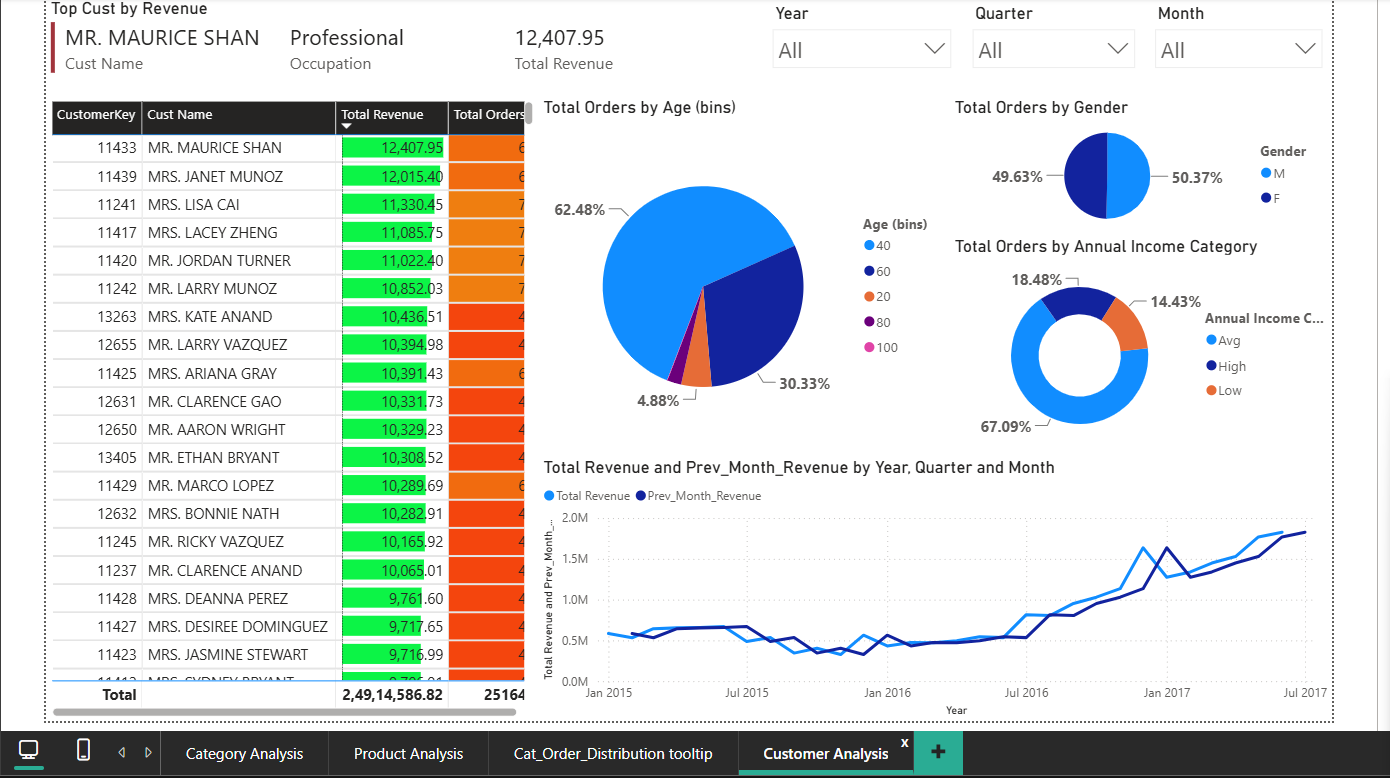

The page's visual inventory and layout, read from the dashboard file:
{"tool":"powerbi","page":{"name":"Customer Analysis","canvas":[1280,720],"ordinal":3},"visuals":[{"type":"tableEx","fields":{"Values":["Customers.CustomerKey","Customers.Cust Name","Sales.Total Revenue","Sales.Total Orders"]},"box":[0,98.3,490,621.7],"z":0},{"type":"pieChart","fields":{"Category":["Customers.Gender"],"Y":["Sales.Total Orders"]},"box":[900,98.3,380,138.3],"z":1000},{"type":"donutChart","fields":{"Category":["Customers.Annual Income Category"],"Y":["Sales.Total Orders"]},"box":[900,236.7,380,220],"z":2000},{"type":"multiRowCard","title":"Top Cust by Revenue","fields":{"Values":["Customers.Cust Name","Customers.Occupation","Sales.Total Revenue"]},"box":[0,0,695,98.3],"z":3000},{"type":"lineChart","fields":{"Category":["Calendar Table.Month_Start_date.Variation.Date Hierarchy.Year","Calendar Table.Month_Start_date.Variation.Date Hierarchy.Quarter","Calendar Table.Month_Start_date.Variation.Date Hierarchy.Month","Calendar Table.Month_Start_date.Variation.Date Hierarchy.Day"],"Y":["Sales.Total Revenue","Sales.Prev_Month_Revenue"]},"box":[490,456.7,790,263.3],"z":4000},{"type":"pieChart","fields":{"Category":["Customers.Age (bins)"],"Y":["Sales.Total Orders"]},"box":[490,98,410,359],"z":5000},{"type":"slicer","fields":{"Values":["Calendar Table.Year"]},"box":[713.3,0,198.3,96.7],"z":6000},{"type":"slicer","fields":{"Values":["Calendar Table.Date.Variation.Date Hierarchy.Quarter"]},"box":[911.7,0,181.7,95],"z":7000},{"type":"slicer","fields":{"Values":["Calendar Table.Date.Variation.Date Hierarchy.Month"]},"box":[1093.3,0,186.7,95],"z":8000}]}

Visuals, with their boxes on the page's 1280x720 design canvas (x1, y1, x2, y2). These are canvas units, not pixel positions in the 1390x778 screenshot, which may show the page scaled, cropped or inside an application window:
tableEx - Customers.CustomerKey x Customers.Cust Name: <box>0,98,490,720</box>
pieChart - Customers.Gender x Sales.Total Orders: <box>900,98,1280,237</box>
donutChart - Customers.Annual Income Category x Sales.Total Orders: <box>900,237,1280,457</box>
"Top Cust by Revenue" multiRowCard: <box>0,0,695,98</box>
lineChart - Calendar Table.Month_Start_date.Variation.Date Hierarchy.Year x Calendar Table.Month_Start_date.Variation.Date Hierarchy.Quarter: <box>490,457,1280,720</box>
pieChart - Customers.Age (bins) x Sales.Total Orders: <box>490,98,900,457</box>
slicer - Calendar Table.Year: <box>713,0,912,97</box>
slicer - Calendar Table.Date.Variation.Date Hierarchy.Quarter: <box>912,0,1093,95</box>
slicer - Calendar Table.Date.Variation.Date Hierarchy.Month: <box>1093,0,1280,95</box>
